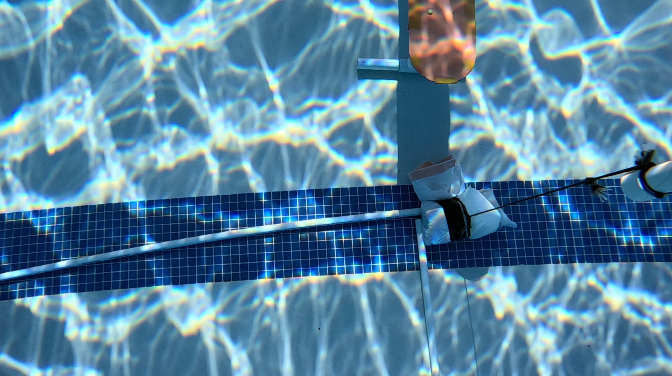pathmarker: (407, 0, 476, 83)
